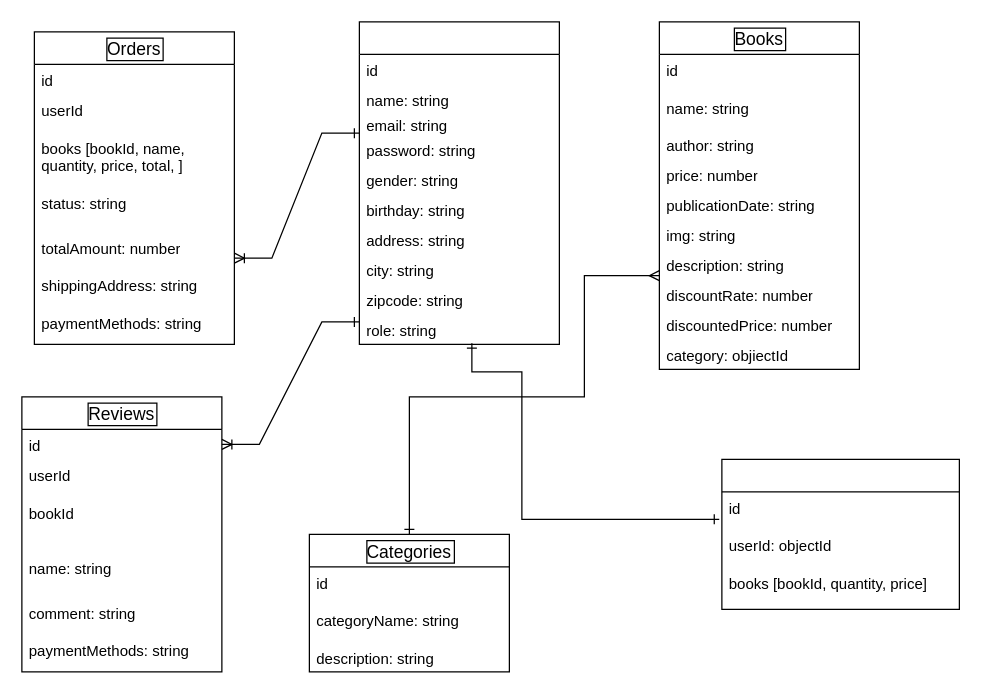
Image size: 981x698. Some labels were removed from this diagram. The shapes that lost their labels are listed below. From the top down, each one's box as (x1, y1, x2, y2) in pixels, then its label:
(358, 21, 559, 344): Users
(721, 458, 959, 609): Cart
